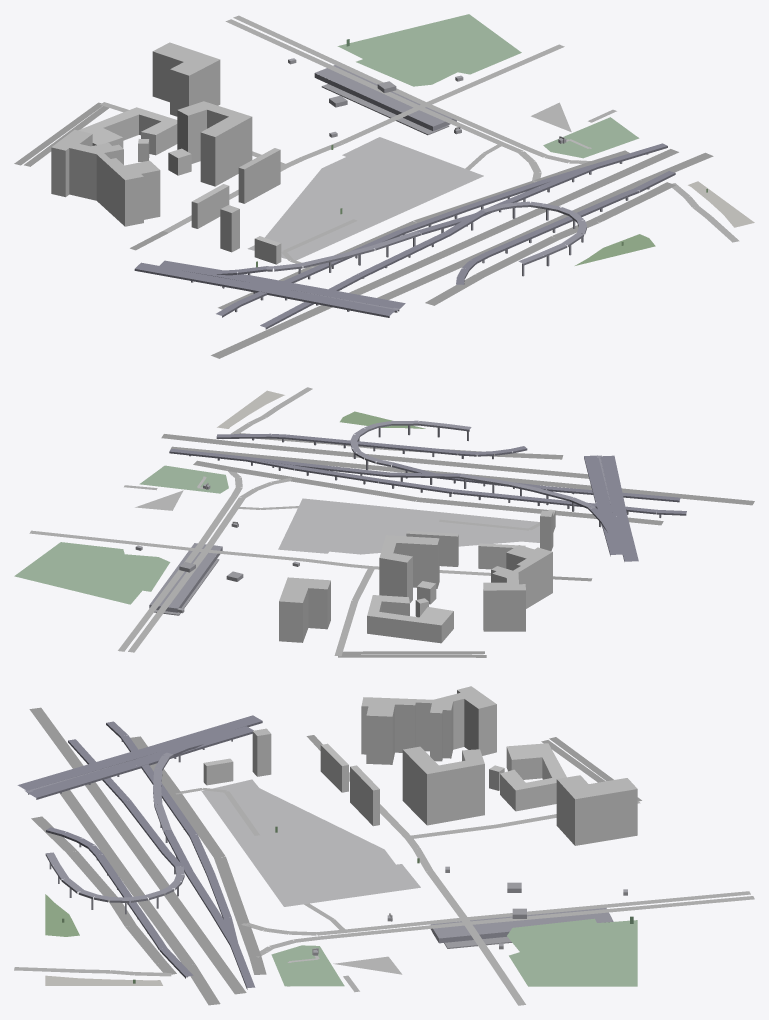
3 views of the same model, one above another, from view 1: azimuth 30°, elevation 25°; view 2: azimuth 150°, elevation 25°; view 3: azimuth 270°, elevation 25° (orthographic). The views are drawn at different scales.
Bounding box in the file's own units: 590 × 65.38 × 626.
